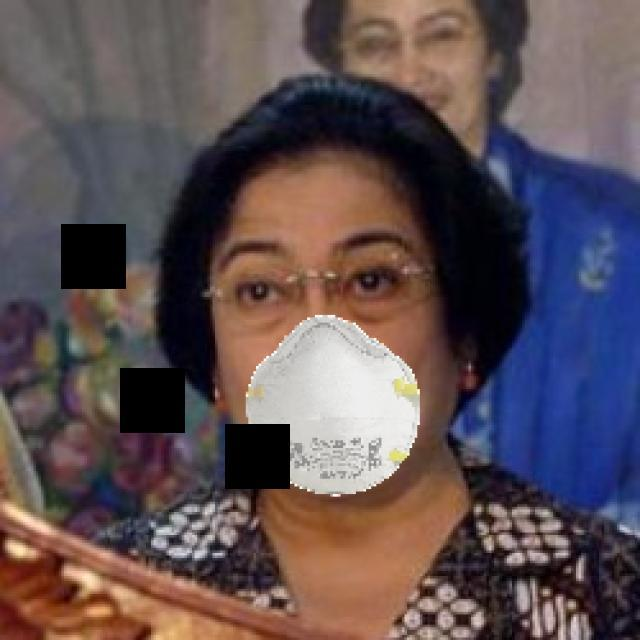n95: (204, 158, 443, 505)
